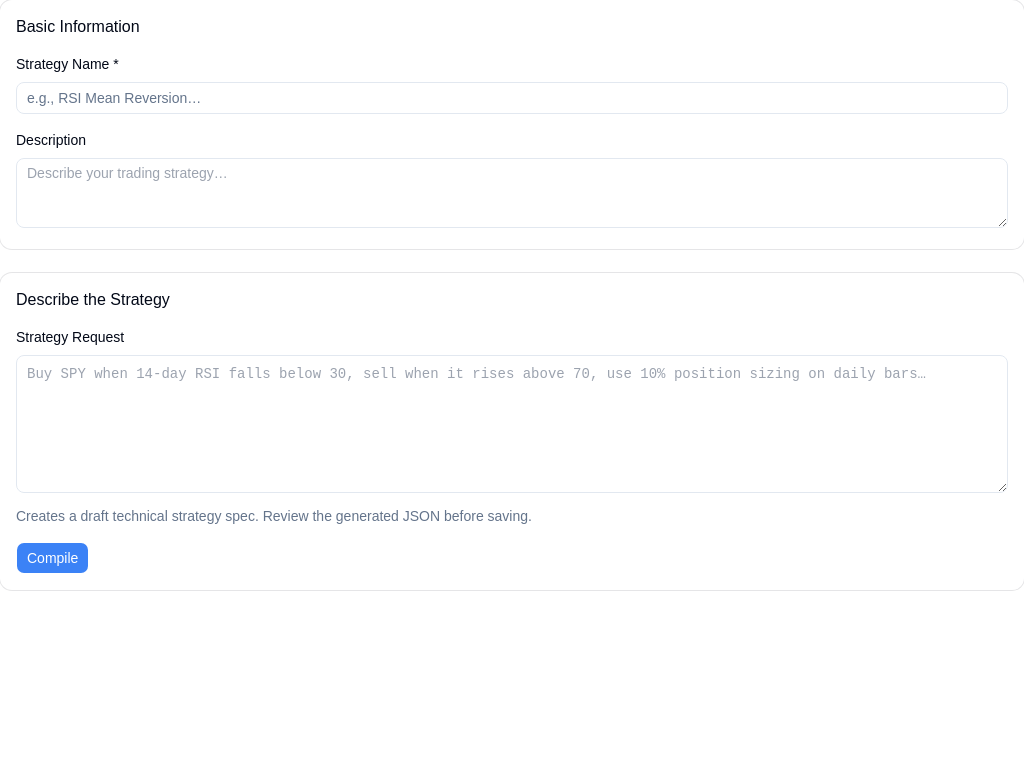
StrategyForm › compiles a natural-language prompt and updates the summary and form fields
In the text box labelled "Strategy Request": (512,424) left=16, top=355, right=1008, bottom=493, type "Generate a momentum strategy"
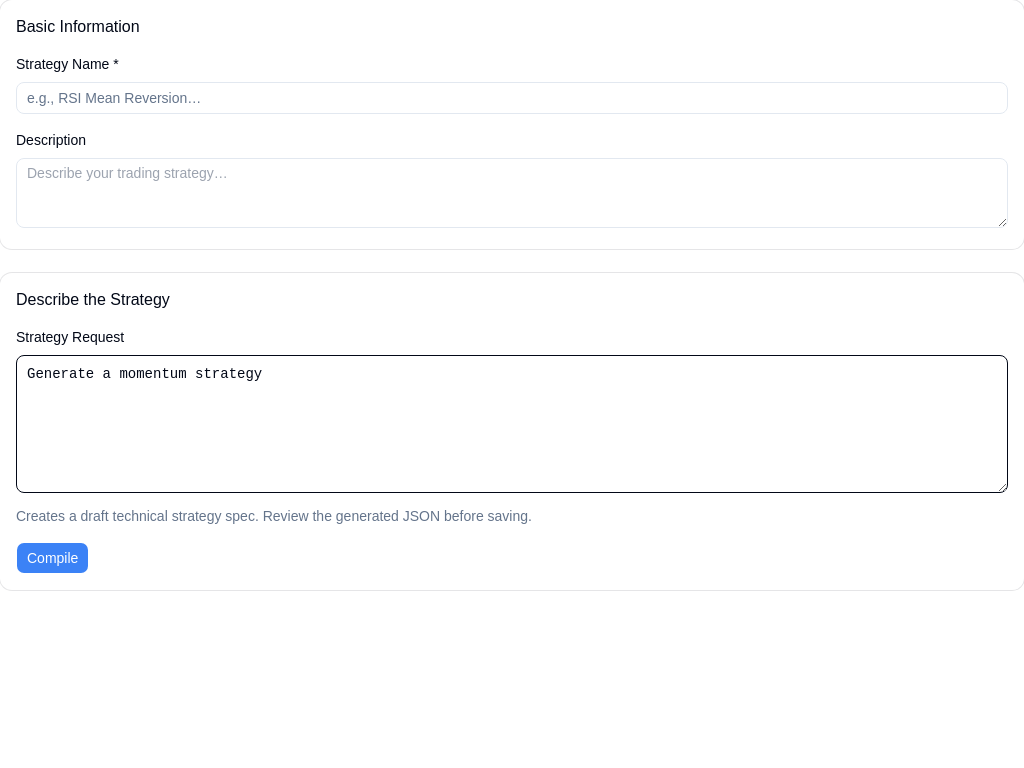
Click the button "Compile": (53,558) left=16, top=542, right=89, bottom=574
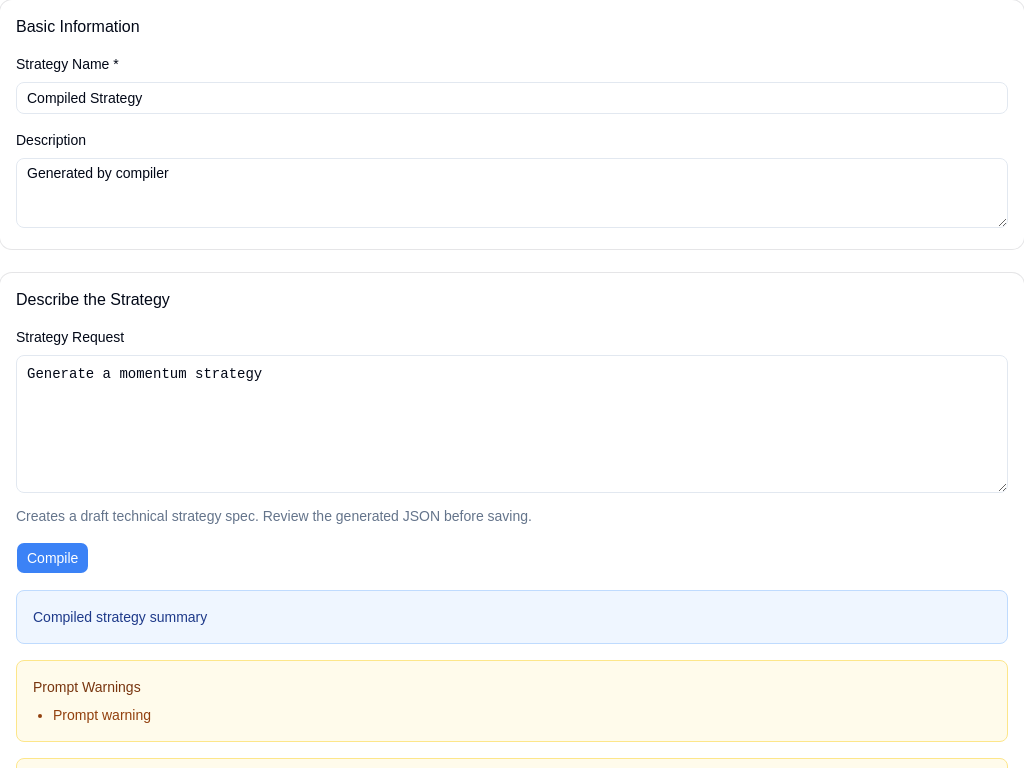
Expected: the text "Compiled strategy summary" is shown, left=16, top=590, right=1008, bottom=644
Expected: the list item "Prompt warning" is shown, left=53, top=707, right=151, bottom=723
Expected: the field showing "Compiled Strategy" is shown, left=16, top=82, right=1008, bottom=114
